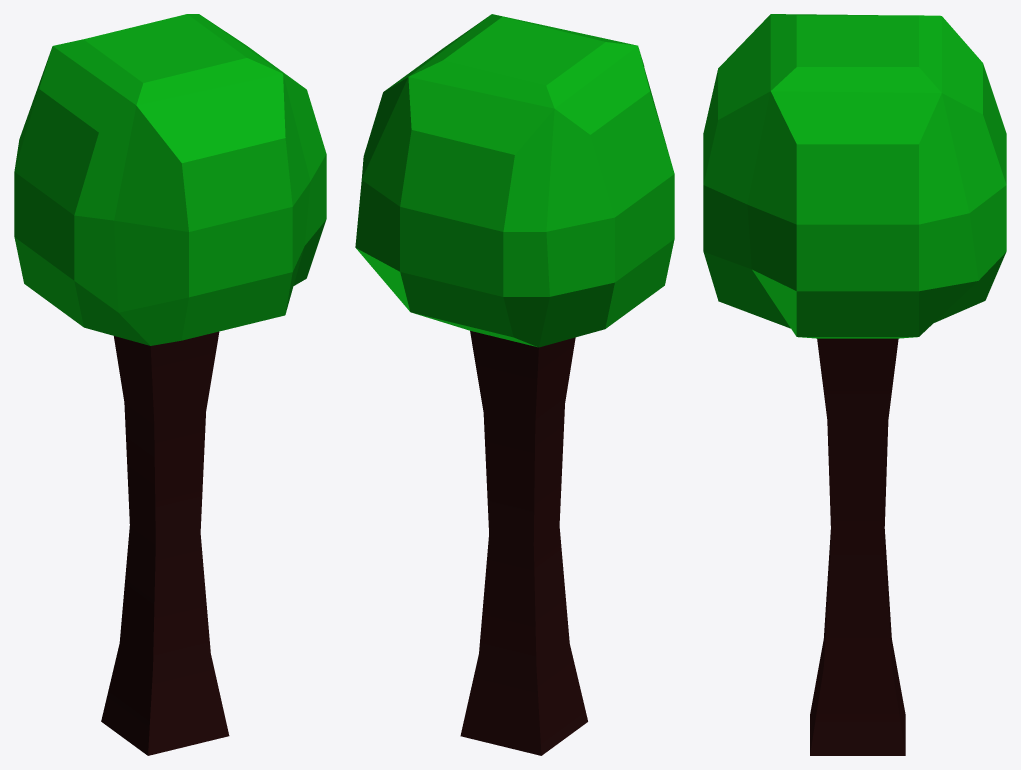
File: Tree_00.FBX
3 renders of one model, left to right at view 1: azimuth 30°, elevation 25°; view 2: azimuth 150°, elevation 25°; view 3: azimuth 270°, elevation 25°, orthographic. The views are drawn at different scales.
Parts seen in each view (by area): view 1: tree; view 2: tree; view 3: tree.
Part boxes in pixels (x1,y1,x2,y2): tree: (14, 14, 326, 755); tree: (355, 14, 674, 755); tree: (703, 14, 1006, 755).
Bounding box in the file's own units: 12.16 × 31.34 × 12.39.
